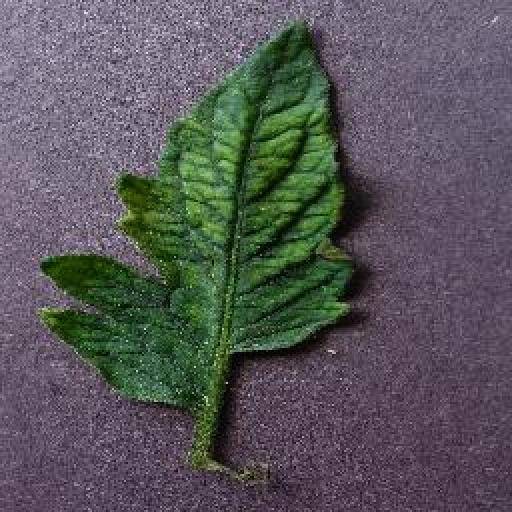Mosaic Virus: (40, 17, 358, 407)
